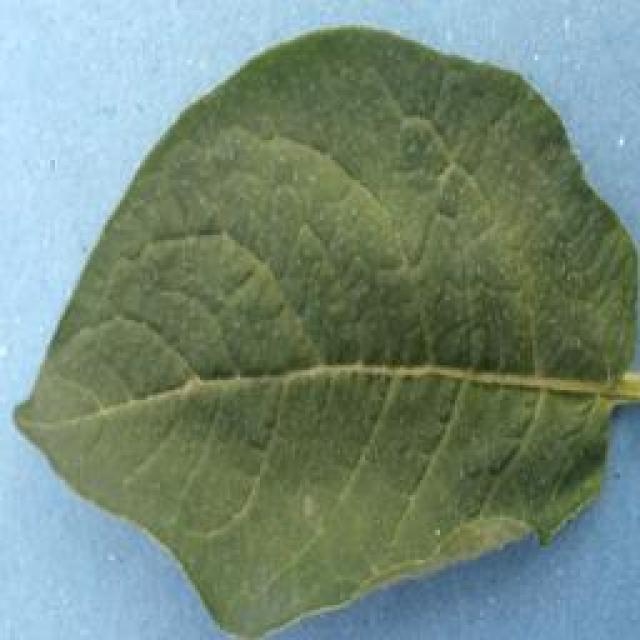Potato_Healthy: (4, 4, 634, 630)
